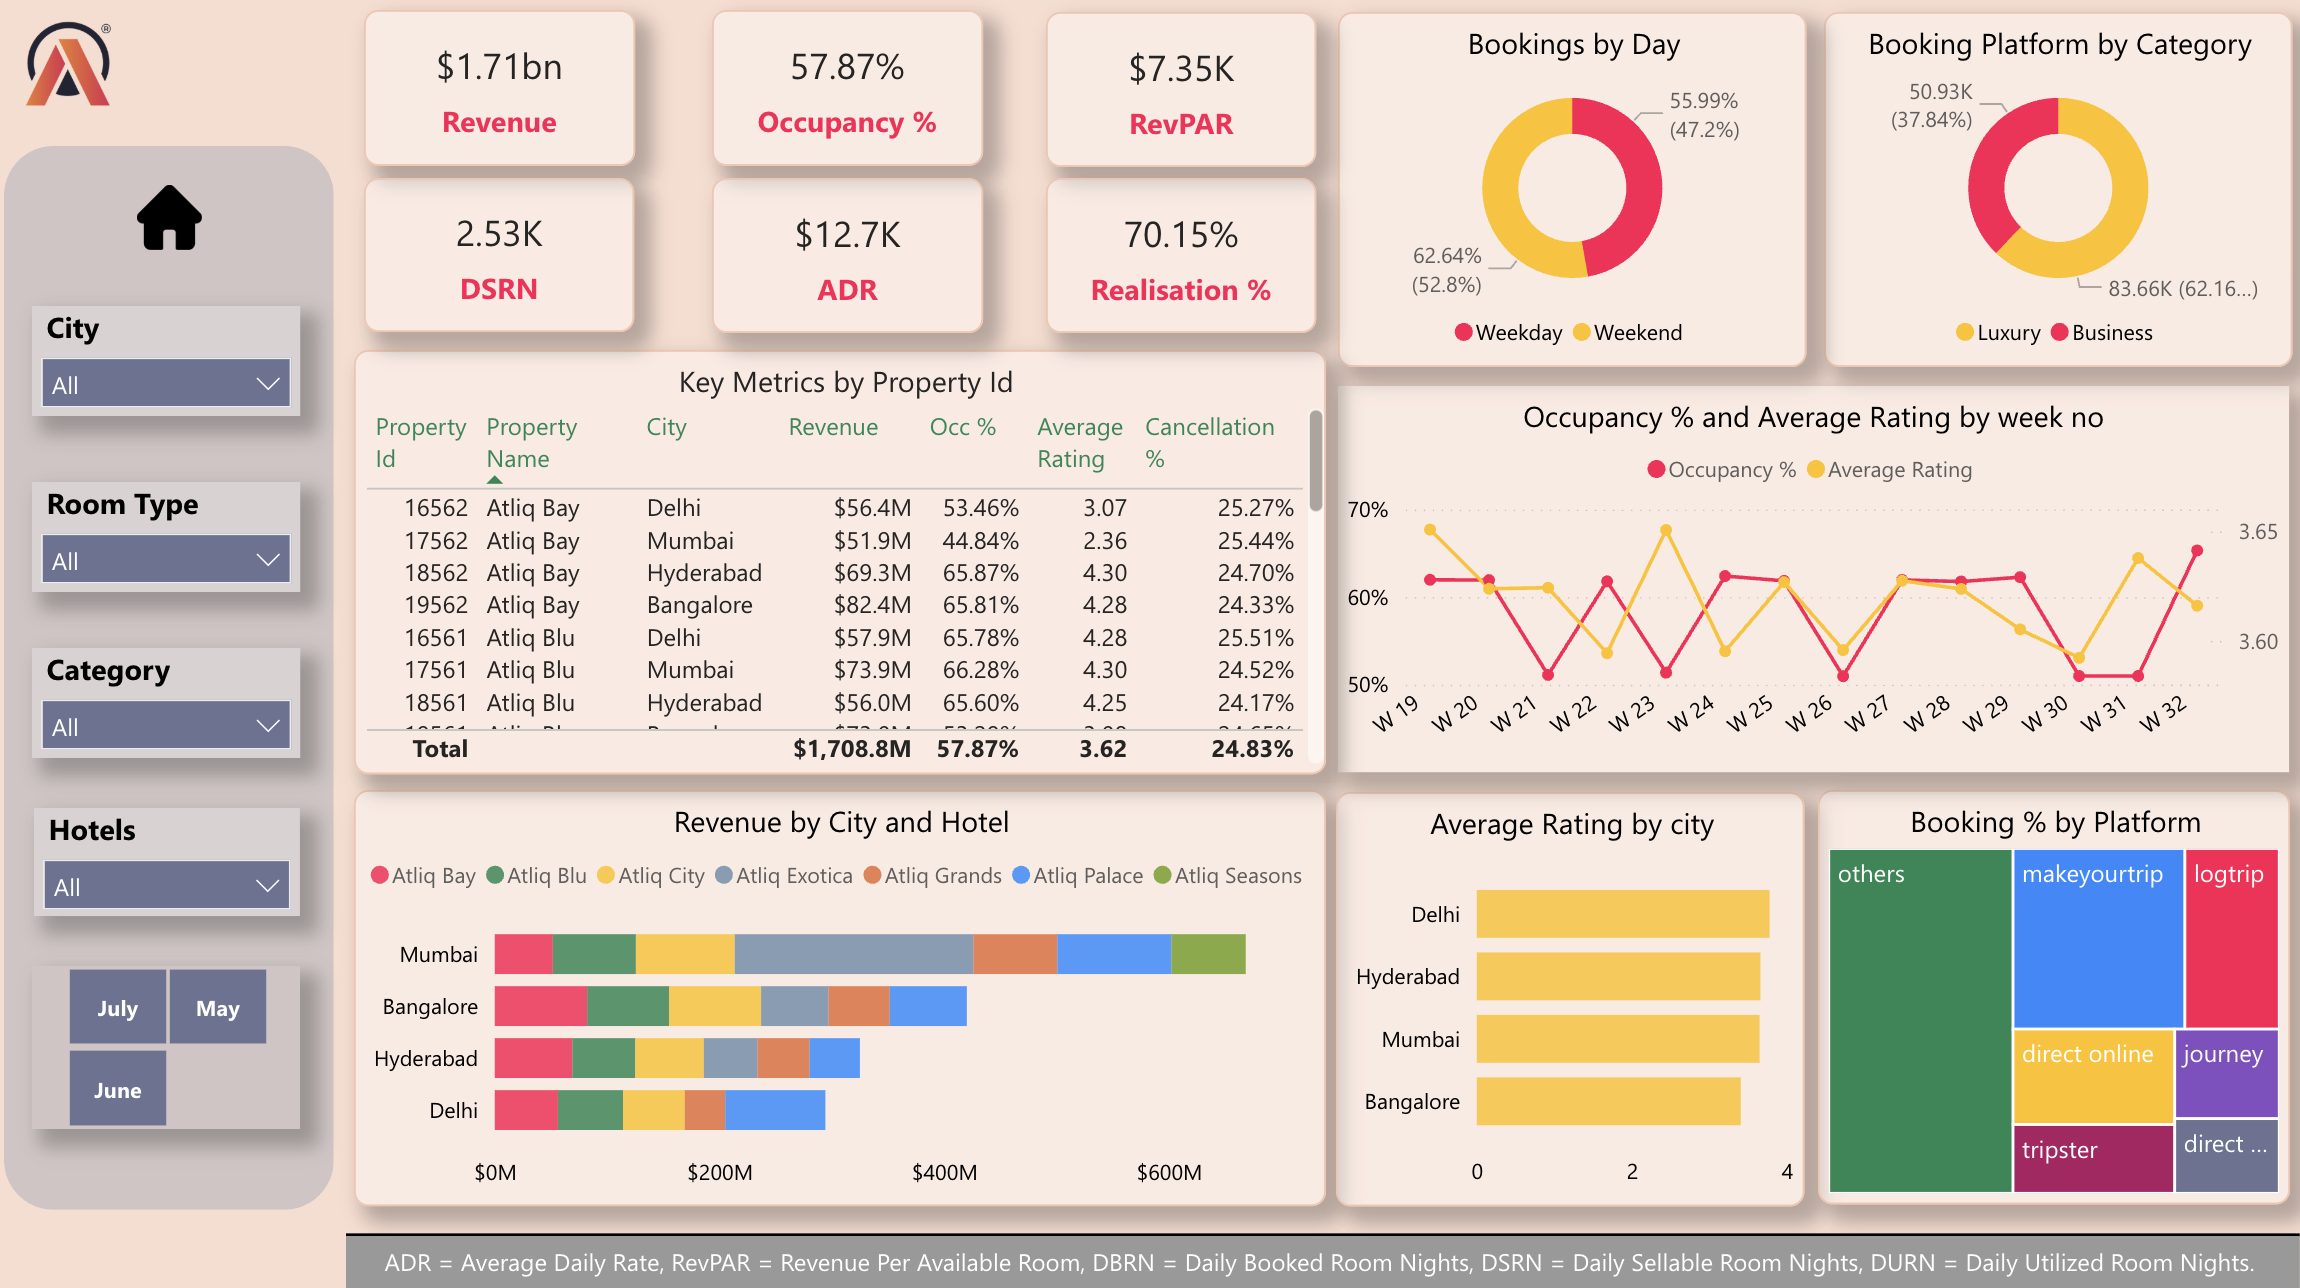

What the dashboard file says about the page in this screenshot:
{"tool":"powerbi","page":{"name":"Executive View","canvas":[1280,720],"ordinal":1},"visuals":[{"type":"barChart","title":"Revenue by City and Hotel","fields":{"Y":["Key Measure.Revenue"],"Category":["dim_hotels.city"],"Series":["dim_hotels.property_name"]},"box":[199.6,443.2,539.5,231.2],"z":0},{"type":"barChart","fields":{"Y":["Key Measure.Average Rating"],"Category":["dim_hotels.city"]},"box":[745.4,443.8,260.2,230],"z":1000},{"type":"treemap","title":"Booking % by Platform","fields":{"Group":["fact_bookings.booking_platform"],"Values":["Key Measure.Booking % by Platform"]},"box":[1013,443.2,262,229.8],"z":2000},{"type":"donutChart","title":"Booking Platform by Category","fields":{"Category":["dim_hotels.category"],"Y":["CountNonNull(fact_bookings.booking_platform)"]},"box":[1015.7,11,260.1,196.8],"z":3000},{"type":"donutChart","title":"Bookings by Day","fields":{"Series":["dim_date.day type"],"Y":["Key Measure.Occupancy %"]},"box":[746,11,260.1,196.8],"z":4000},{"type":"lineChart","fields":{"Y":["Key Measure.Occupancy %"],"Y2":["Key Measure.Average Rating"],"Category":["dim_date.week no"]},"box":[746,218.8,528,214.7],"z":5000},{"type":"tableEx","title":"Key Metrics by Property Id","fields":{"Values":["dim_hotels.property_id","dim_hotels.property_name","dim_hotels.city","Key Measure.Revenue","Key Measure.Occupancy %","Key Measure.Average Rating","Key Measure.Cancellation %"]},"box":[199.6,198.2,539.5,235.4],"z":6000},{"type":"card","fields":{"Values":["Key Measure.Revenue"]},"box":[205.3,10.1,150.3,86.3],"z":7000},{"type":"card","fields":{"Values":["Key Measure.Occupancy %"]},"box":[398.7,10.1,150.3,86.3],"z":8000},{"type":"card","fields":{"Values":["Key Measure.RevPAR"]},"box":[583.8,11,150,86],"z":9000},{"type":"card","fields":{"Values":["Key Measure.DSRN"]},"box":[205.3,103.2,150,85.3],"z":10000},{"type":"card","fields":{"Values":["Key Measure.ADR"]},"box":[398.7,103.2,150.3,86],"z":11000},{"type":"card","fields":{"Values":["Key Measure.Realisation %"]},"box":[583.8,103.2,150,86],"z":12000},{"type":"shape","box":[5.5,85.3,183.1,590.5],"z":13000},{"type":"slicer","fields":{"Values":["dim_date.month"]},"box":[20.6,540.5,148.9,90.4],"z":14000},{"type":"slicer","fields":{"Values":["dim_hotels.city"]},"box":[20.6,174.6,148.9,61.2],"z":15000},{"type":"slicer","fields":{"Values":["dim_rooms.room_class"]},"box":[20.6,272,148.9,61.2],"z":16000},{"type":"slicer","fields":{"Values":["dim_hotels.category"]},"box":[20.6,363.8,148.9,61.2],"z":17000},{"type":"slicer","fields":{"Values":["dim_hotels.property_name"]},"box":[22,452.9,147.5,59.8],"z":18000},{"type":"image","box":[12.4,9.6,59.2,59.2],"z":19000},{"type":"image","box":[74,102,45.8,45.8],"z":20000},{"type":"shape","box":[195.4,684,1084.6,12.4],"z":21000},{"type":"textbox","box":[195.4,690.9,1084.6,28.9],"z":22000}]}

Visuals, with their boxes in screenshot pixels (x1, y1, x2, y2), scaled from the page's 1280x720 canvas onto the 2300x1288 screenshot:
"Revenue by City and Hotel" barChart: (left=359, top=793, right=1328, bottom=1206)
barChart - Key Measure.Average Rating x dim_hotels.city: (left=1339, top=794, right=1807, bottom=1205)
"Booking % by Platform" treemap: (left=1820, top=793, right=2291, bottom=1204)
"Booking Platform by Category" donutChart: (left=1825, top=20, right=2292, bottom=372)
"Bookings by Day" donutChart: (left=1340, top=20, right=1808, bottom=372)
lineChart - Key Measure.Occupancy % x Key Measure.Average Rating: (left=1340, top=391, right=2289, bottom=775)
"Key Metrics by Property Id" tableEx: (left=359, top=355, right=1328, bottom=776)
card - Key Measure.Revenue: (left=369, top=18, right=639, bottom=172)
card - Key Measure.Occupancy %: (left=716, top=18, right=986, bottom=172)
card - Key Measure.RevPAR: (left=1049, top=20, right=1319, bottom=174)
card - Key Measure.DSRN: (left=369, top=185, right=638, bottom=337)
card - Key Measure.ADR: (left=716, top=185, right=986, bottom=338)
card - Key Measure.Realisation %: (left=1049, top=185, right=1319, bottom=338)
shape: (left=10, top=153, right=339, bottom=1209)
slicer - dim_date.month: (left=37, top=967, right=305, bottom=1129)
slicer - dim_hotels.city: (left=37, top=312, right=305, bottom=422)
slicer - dim_rooms.room_class: (left=37, top=487, right=305, bottom=596)
slicer - dim_hotels.category: (left=37, top=651, right=305, bottom=760)
slicer - dim_hotels.property_name: (left=40, top=810, right=305, bottom=917)
image: (left=22, top=17, right=129, bottom=123)
image: (left=133, top=182, right=215, bottom=264)
shape: (left=351, top=1224, right=2299, bottom=1246)
textbox: (left=351, top=1236, right=2299, bottom=1287)
